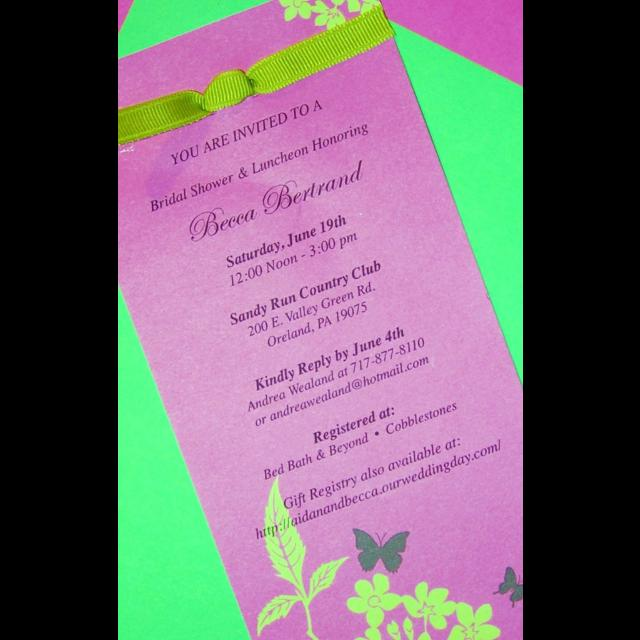Flower: (401, 581, 455, 629), (349, 571, 391, 625), (446, 602, 502, 640), (308, 3, 348, 29), (388, 618, 432, 640), (334, 0, 381, 14), (280, 1, 310, 22), (358, 626, 388, 640)
